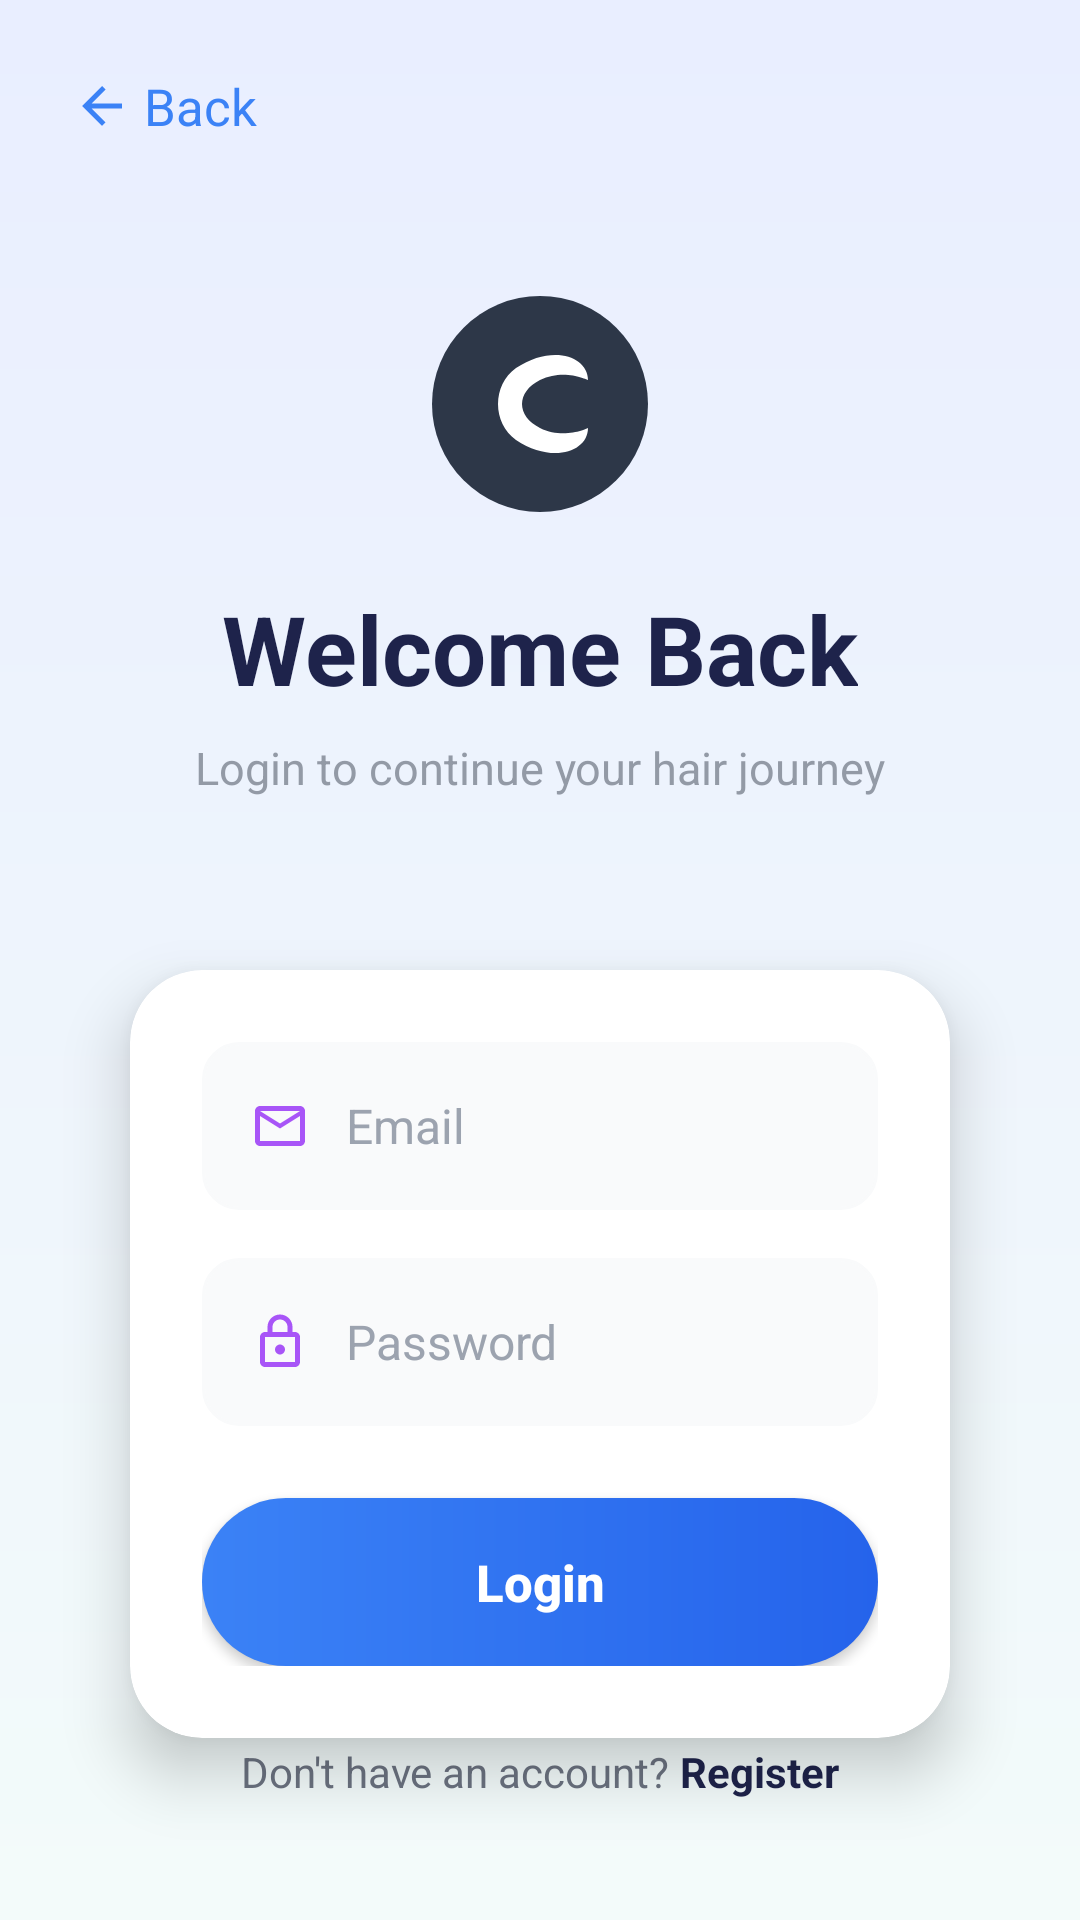

Named icons in this screenshot (1080w x 1920h) and their centers, [x,y]:
lock: [280,1340]
